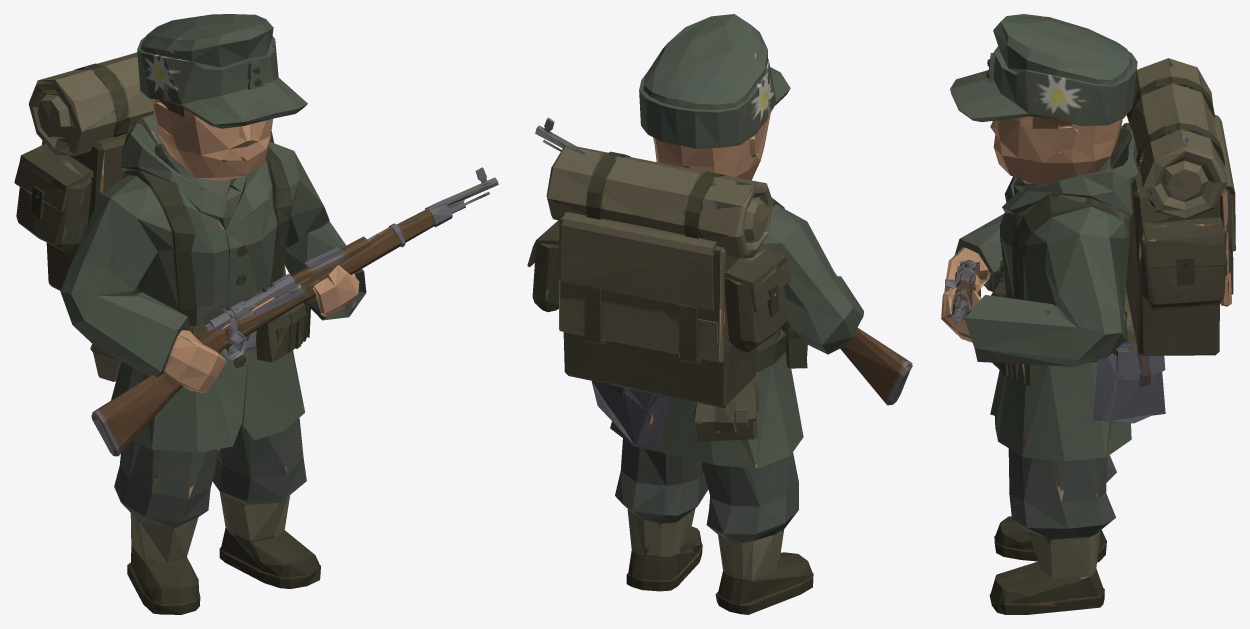
File: bulge_german_mountain_0.glb
3 views of the same model, side by side, from view 1: azimuth 30°, elevation 25°; view 2: azimuth 150°, elevation 25°; view 3: azimuth 270°, elevation 25° (orthographic). The views are drawn at different scales.
Parts seen in each view (by area): view 1: geometry_0; view 2: geometry_0; view 3: geometry_0.
Boxes of the visible parts, x1=… form: geometry_0: x1=14, y1=14, x2=498, y2=614; geometry_0: x1=527, y1=14, x2=912, y2=614; geometry_0: x1=941, y1=14, x2=1235, y2=614.
Size of the model in its own units: 0.2357 by 0.324 by 0.1554.
Materials: 1 (1 with a texture image).
